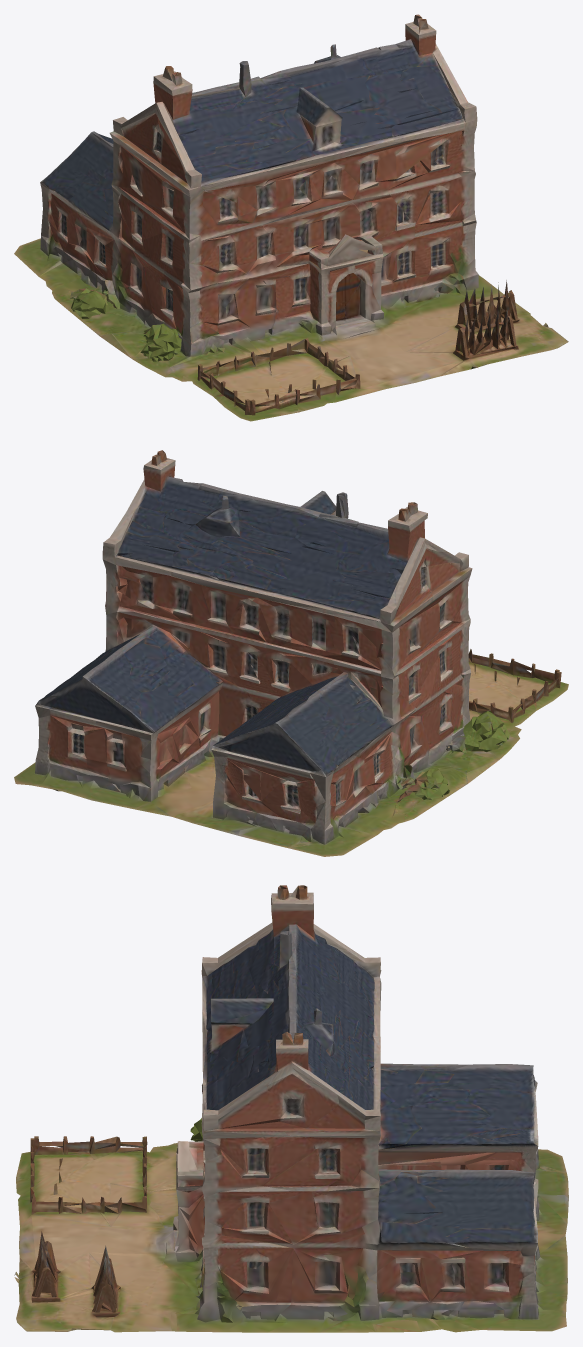
The model's file is barracks.glb.
3 renders of one model, top to bottom at view 1: azimuth 30°, elevation 25°; view 2: azimuth 150°, elevation 25°; view 3: azimuth 270°, elevation 25°, orthographic. The views are drawn at different scales.
Bounding box in the file's own units: 1.57 × 1.1 × 1.9.
1 material, 1 textured.
